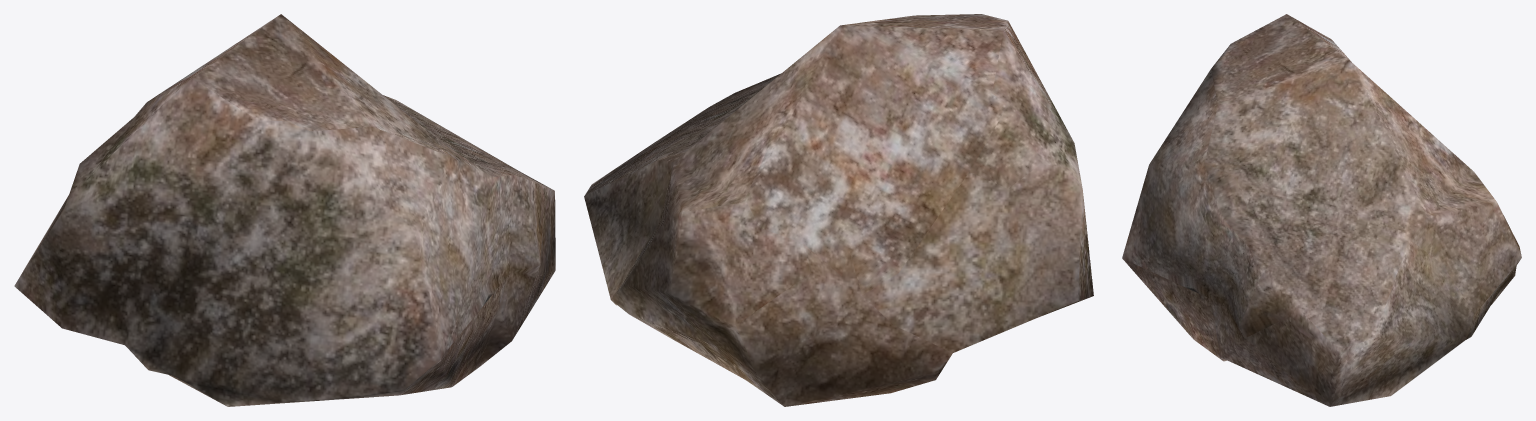
The model's file is rock_scan06.fbx.
3 views of the same model, side by side, from view 1: azimuth 30°, elevation 25°; view 2: azimuth 150°, elevation 25°; view 3: azimuth 270°, elevation 25° (orthographic). The views are drawn at different scales.
Parts seen in each view (by area): view 1: Rock06_LOD3; view 2: Rock06_LOD3; view 3: Rock06_LOD3.
Boxes of the visible parts, x1=… form: Rock06_LOD3: x1=14, y1=14, x2=555, y2=406; Rock06_LOD3: x1=584, y1=14, x2=1093, y2=406; Rock06_LOD3: x1=1122, y1=14, x2=1521, y2=406.
Bounding box in the file's own units: 304 × 180 × 255.
1 material, 1 textured.
